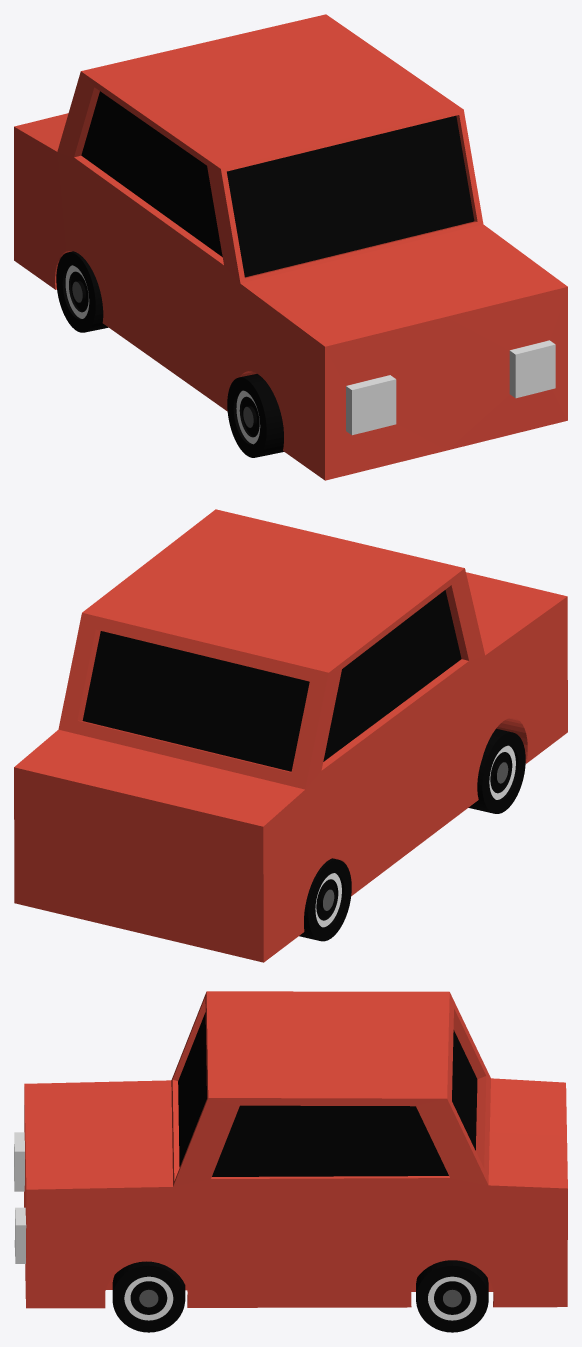
Rendered from Car02.glb.
3 views of the same model, one above another, from view 1: azimuth 30°, elevation 25°; view 2: azimuth 150°, elevation 25°; view 3: azimuth 270°, elevation 25° (orthographic). The views are drawn at different scales.
Visible parts, largest first — view 1: Car03; view 2: Car03; view 3: Car03.
Part boxes in pixels (x1,y1,x2,y2): Car03: [14, 14, 567, 480]; Car03: [14, 509, 567, 962]; Car03: [14, 991, 567, 1332].
Bounding box in the file's own units: 2.12 × 2.04 × 4.41.
